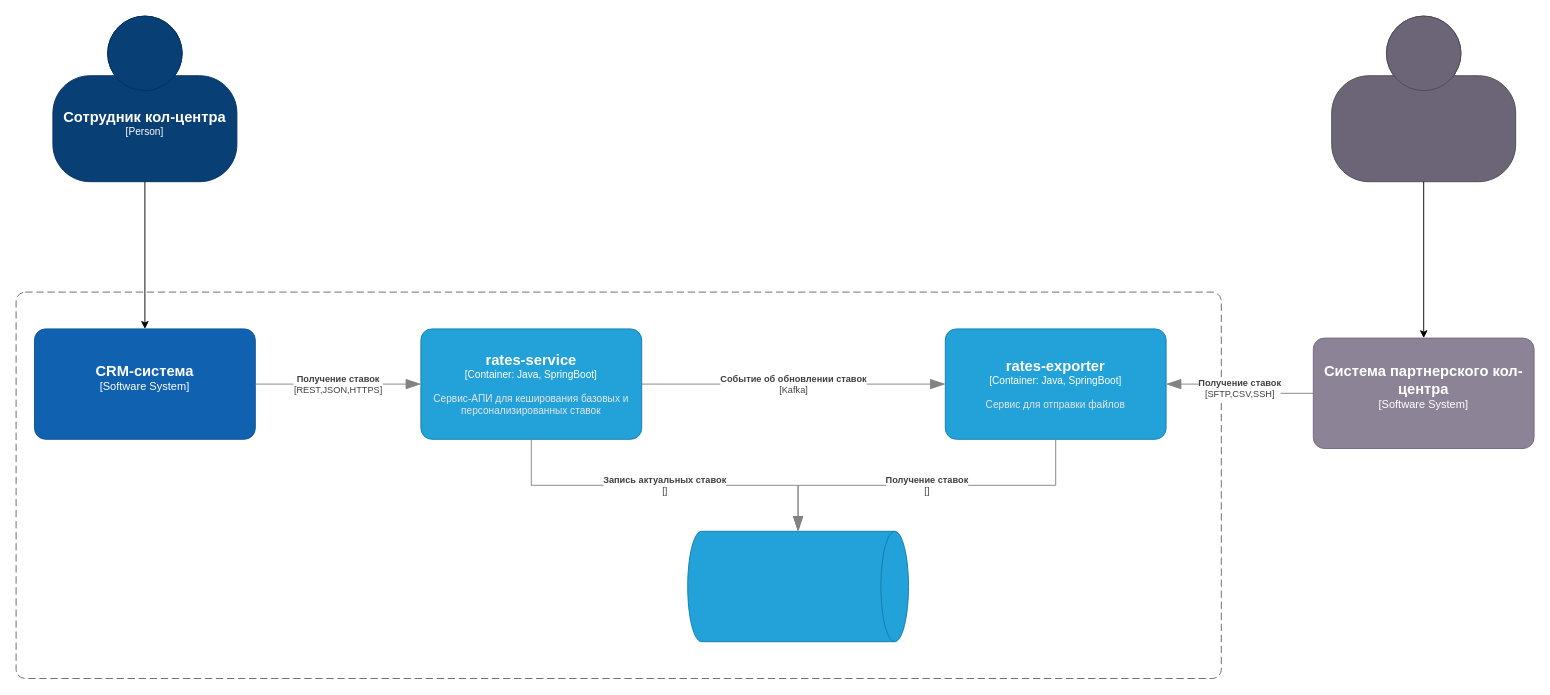
Image size: 1550x695. Some labels were removed from this diagram. The box of each missing label's shape, as (x1, y1, x2, y2) in pixels:
[Bank System]: (15, 291, 1221, 678)
Redis [Container: ]: (687, 530, 908, 642)
Сотрудник партнерского кол-центра [Person]: (1331, 15, 1516, 182)
